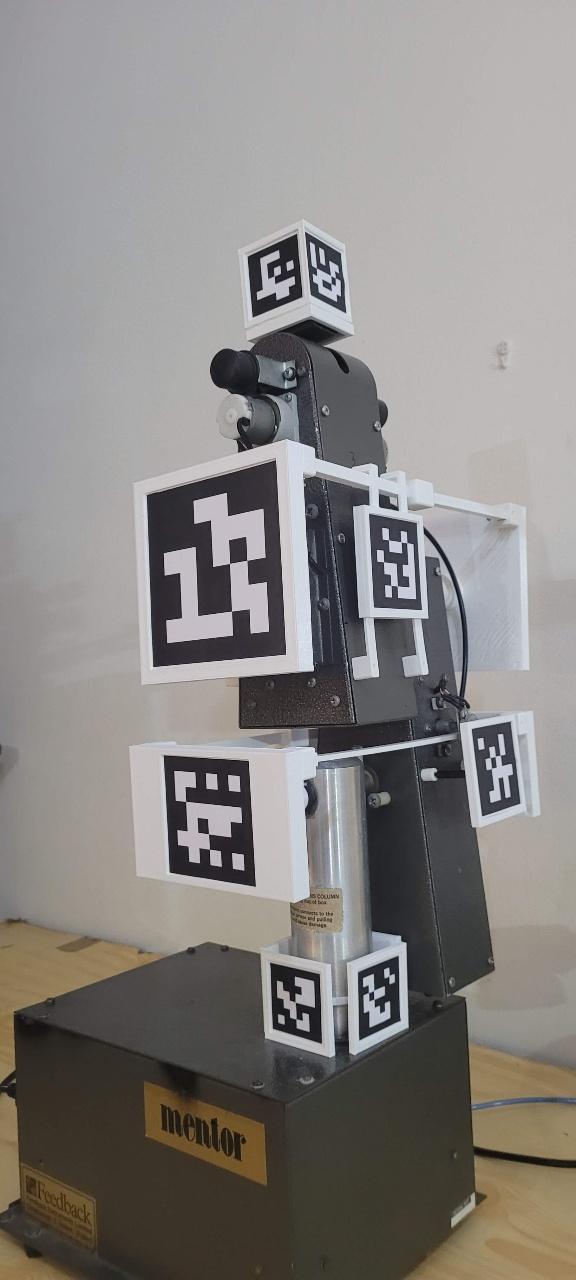Robot: (129, 216, 544, 1059)
